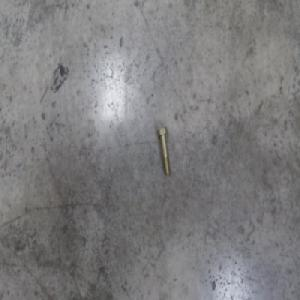Bolt: (156, 126, 170, 176)
